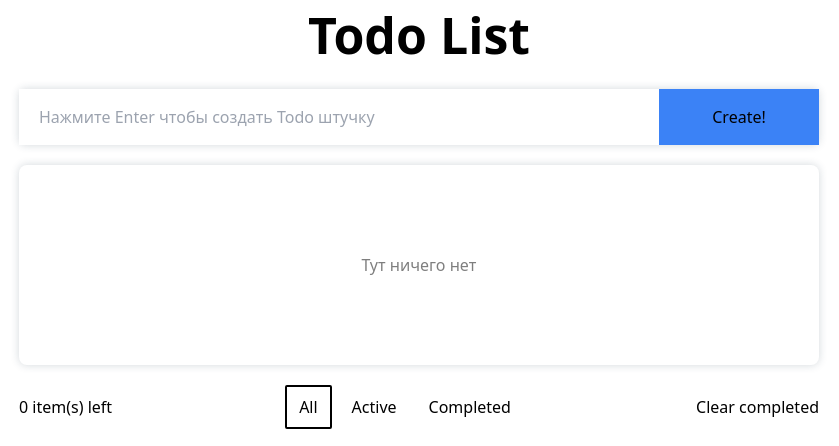
Scenario: clear completed todo items
// Добавляю две задачи
Type "Task 1" into the field with test id "todo-input". click: (339, 117)
box: [19,89,659,145]
Click the button with test id "add-button". click: (739, 117)
box: [659,89,819,145]
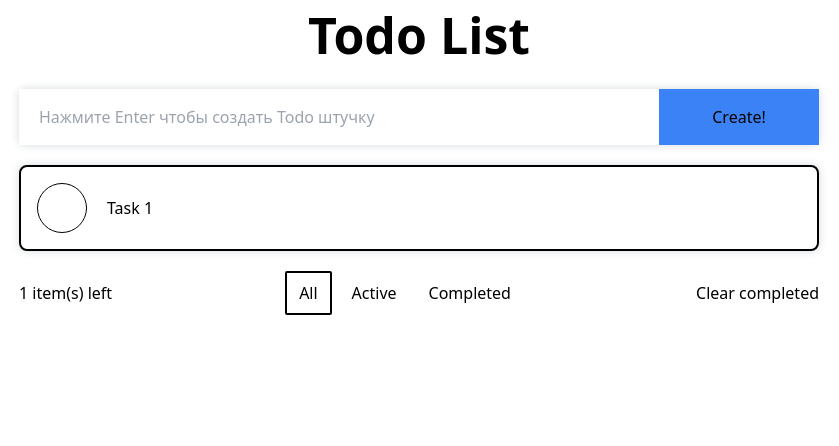
Type "Task 2" into the field with test id "todo-input". click: (339, 117)
box: [19,89,659,145]
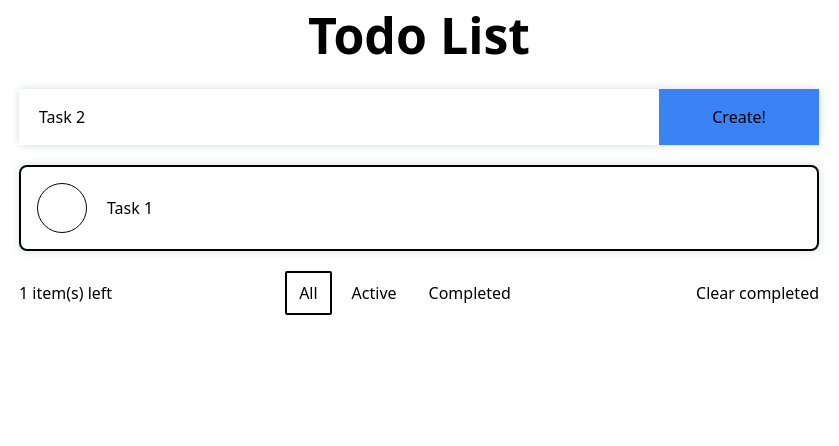
Click the button with test id "add-button". click: (739, 117)
box: [659,89,819,145]
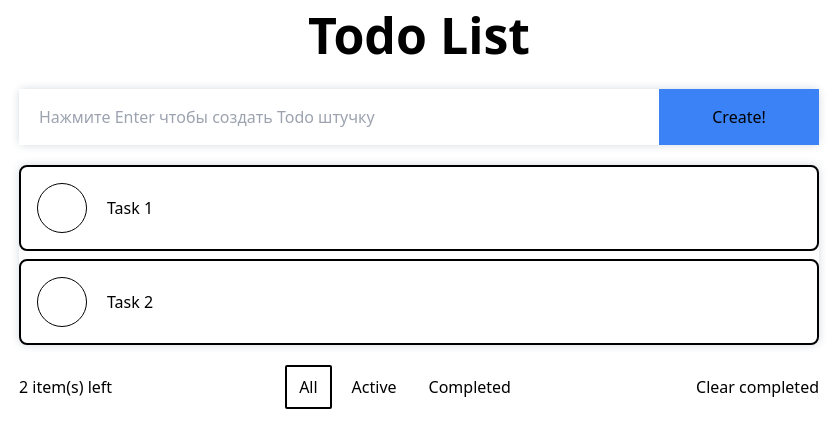
Check: the text "Task 1" is shown, box [107,196,153,220]
Check: the text "Task 2" is shown, box [107,290,153,314]
// Нахожу и нажимаю кнопки завершения для каждой задачи
Click the element with test id "complete-button" next to "Task 1". click: (62, 208)
box: [37,183,87,233]
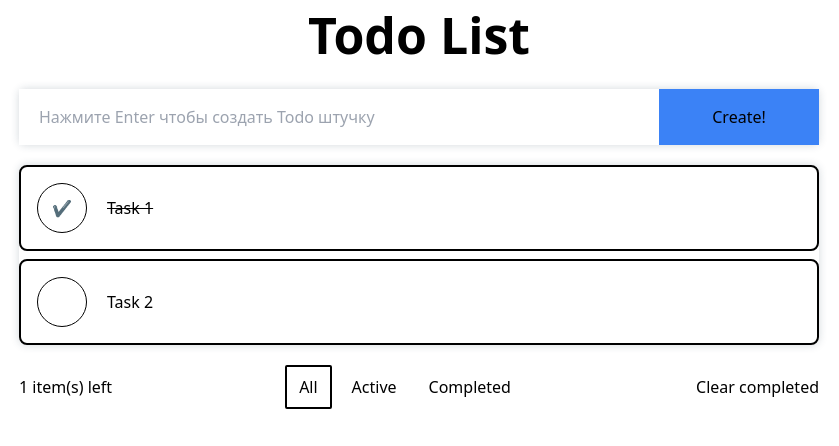
Click the 2nd element with test id "complete-button". click: (62, 302)
box: [37,277,87,327]
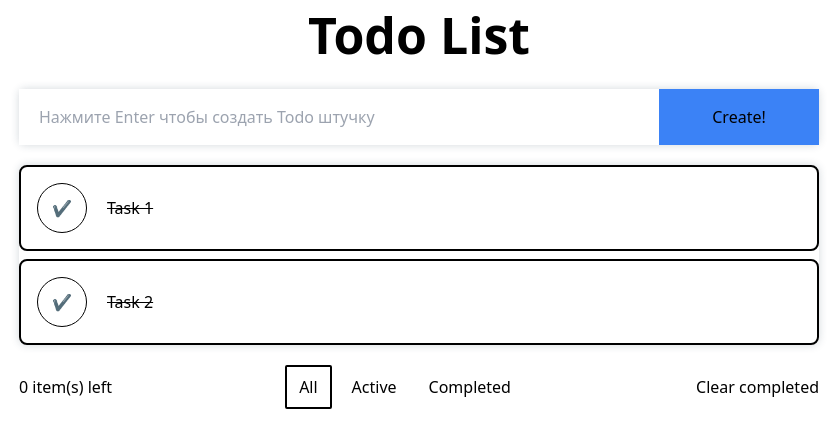
// Нахожу и нажимаю кнопку очистки завершенных задач
Click the button with test id "clear-completed-button". click: (758, 387)
box: [696,375,819,399]
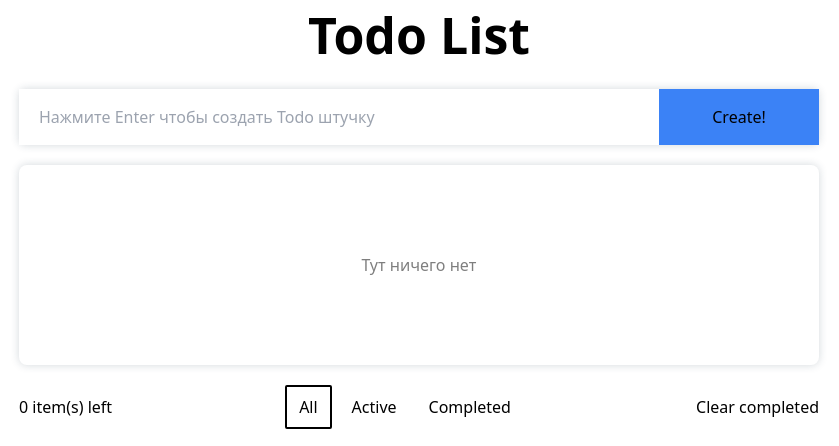
Check: the text "Task 1" is gone
Check: the text "Task 2" is gone
